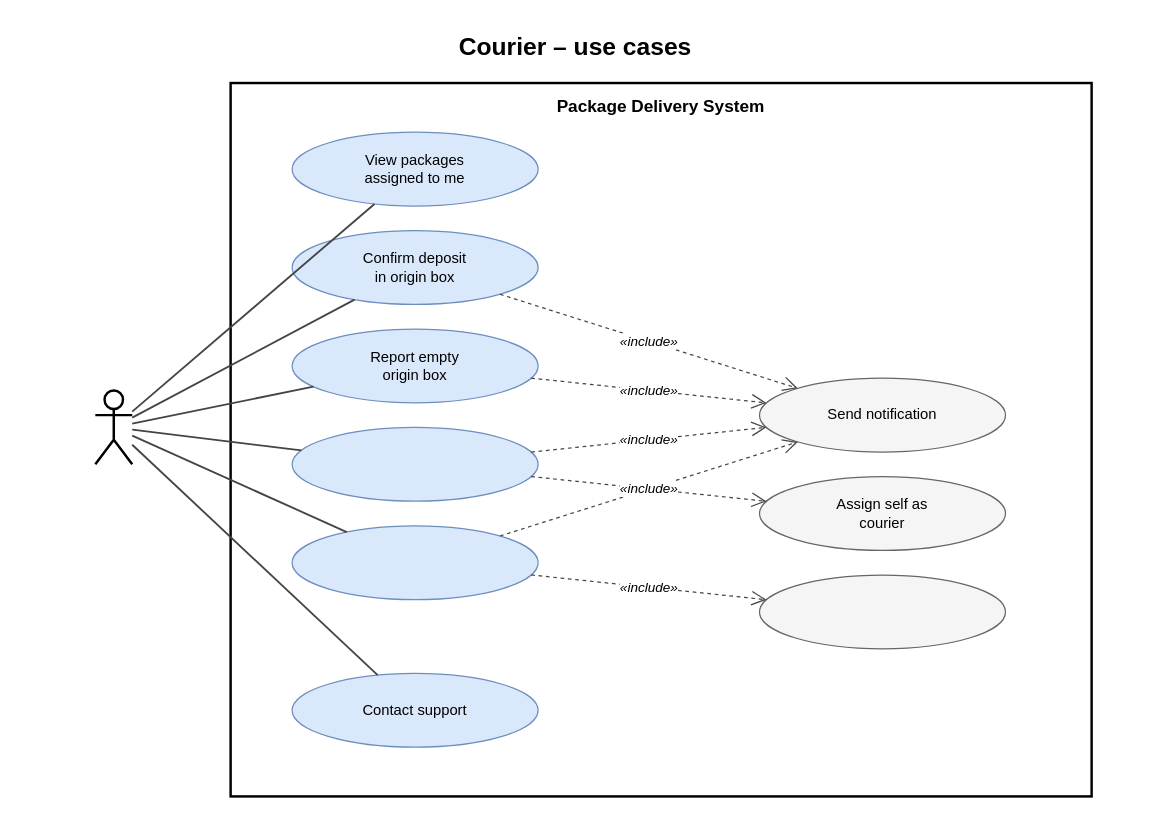
The diagram is 1149 pixels wide and 818 high, and some of its shapes have lost their labels. The centre of each missing label's shape, as x and y in pixels:
Courier: (113,427)
Deliver package to destination box: (414,562)
Generate 6-digit pickup code: (882,611)
Pick up package from origin box: (414,463)
